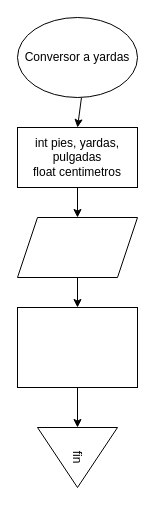
Some shapes in this 155 by 505 pixel diagram are drawn without their labels. Each missing label, with the box of its shape:
pulgadas = pies * 12 yardas = (float)pies / 3 centimetros = pulgadas * 2.54: (16, 306, 138, 388)
Se ingresa la medida de pies: (16, 216, 138, 278)
